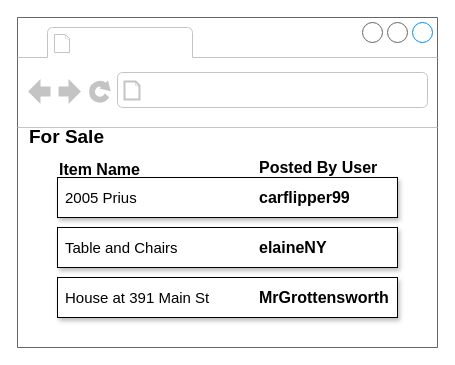
This 455x365 diagram has some shape labels left out. The shapes that lost their labels are listed below. From the top down, each one's centre as x and y in pixels, then its label:
At point 132,42: "Page 1".
At point 272,90: "https://www.draw.io".
